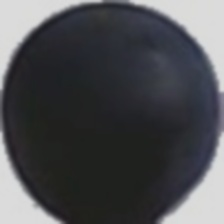grapes: (32, 58, 192, 193)
